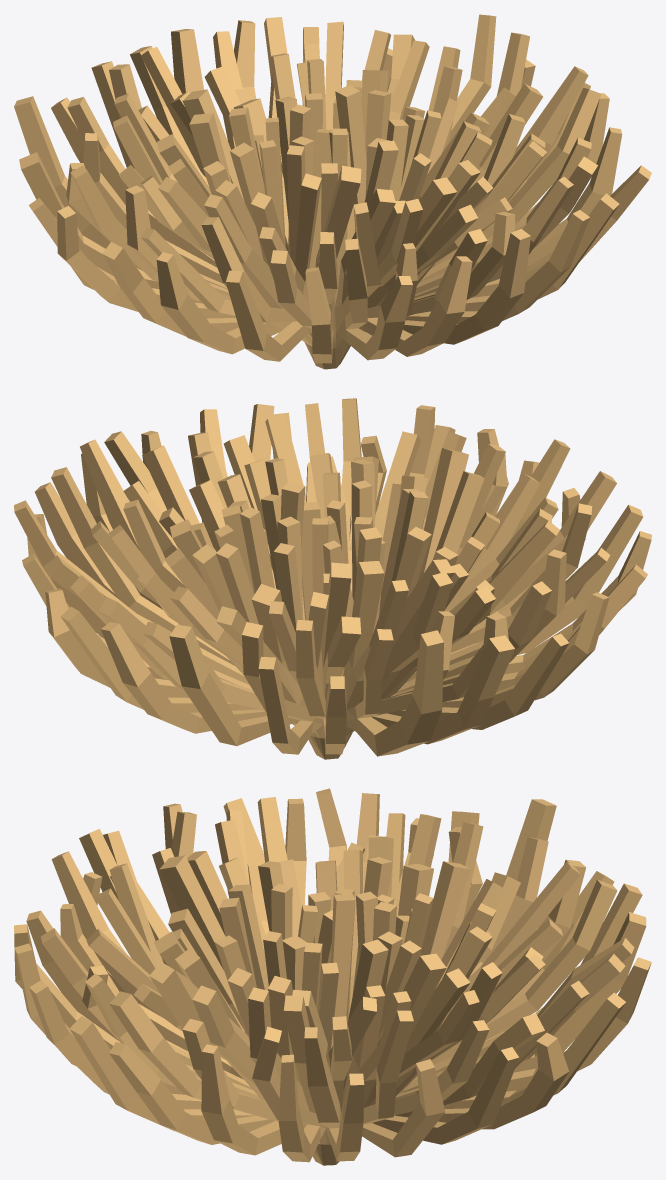
File: Coral16.fbx
The picture shows the model from 3 angles, top to bottom: view 1: azimuth 30°, elevation 25°; view 2: azimuth 150°, elevation 25°; view 3: azimuth 270°, elevation 25°; orthographic projection. The views are drawn at different scales.
Visible parts, largest first — view 1: Coral16; view 2: Coral16; view 3: Coral16.
Part boxes in pixels (bbox=[...]): Coral16: bbox=[14, 14, 651, 369]; Coral16: bbox=[14, 398, 651, 759]; Coral16: bbox=[14, 788, 651, 1165].
Bounding box in the file's own units: 7.84 × 3.64 × 7.51.
